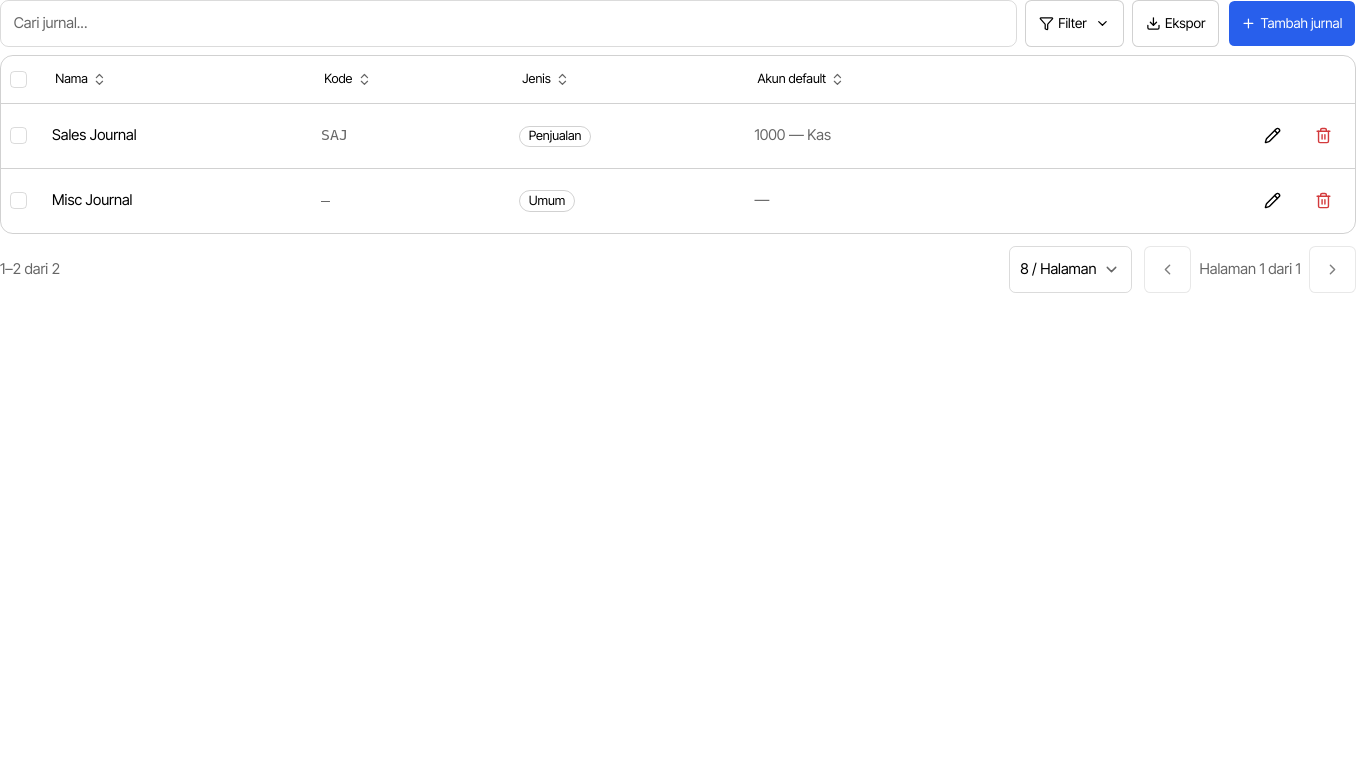
Test case: JournalsSection remainder › opens the edit dialog prefilled with the journal values
Check: the text "Sales Journal" is shown, box [52,126,137,144]
What coordinates should you click on to do the following:
click the button named "Ubah" in the row of "Sales Journal"
I would click on:
 (1272, 136)
Its box is [1249,112,1296,159].
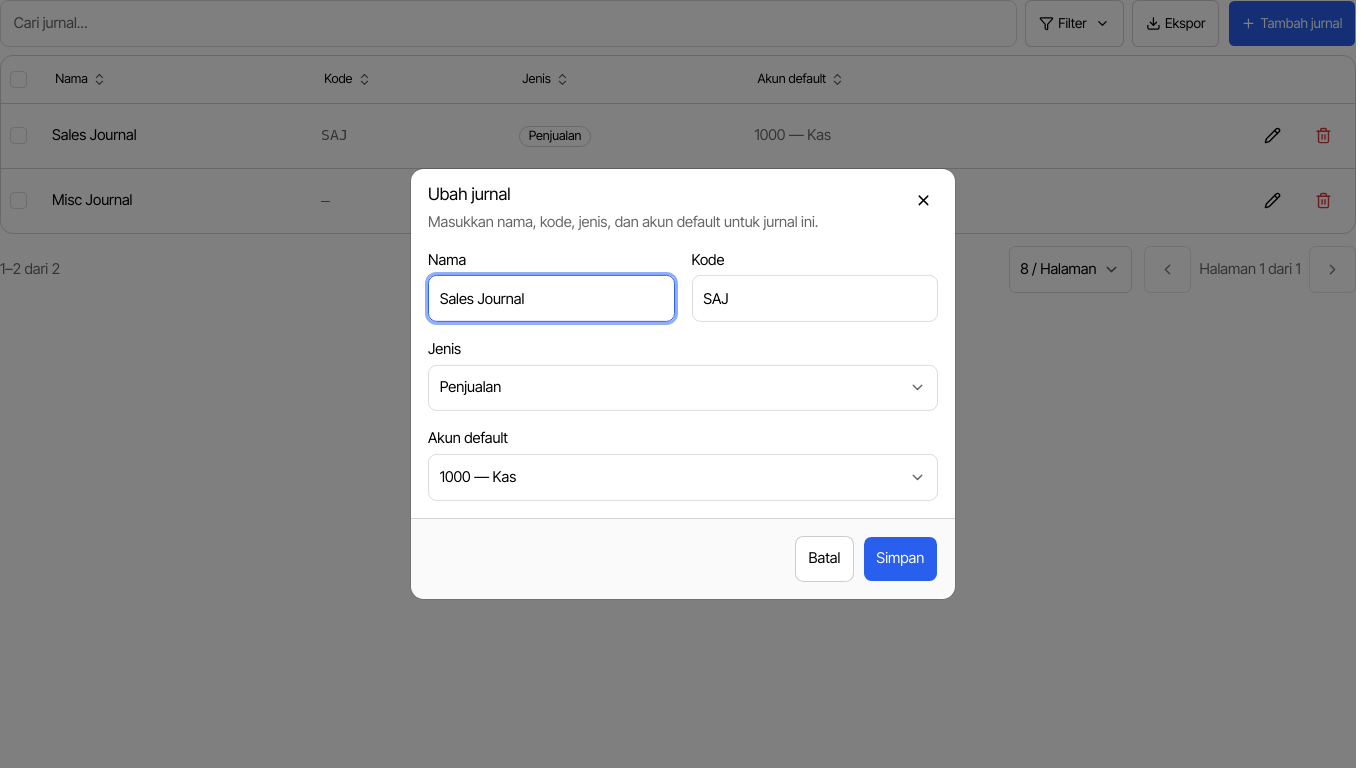
Check: the heading "Ubah jurnal" is shown, box [428,184,510,204]
Check: the 1st field showing "Sales Journal" is shown, box [428,275,674,322]
